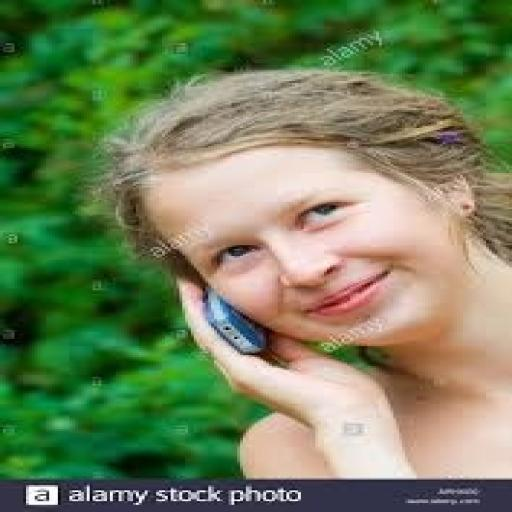calling: (96, 66, 509, 480)
